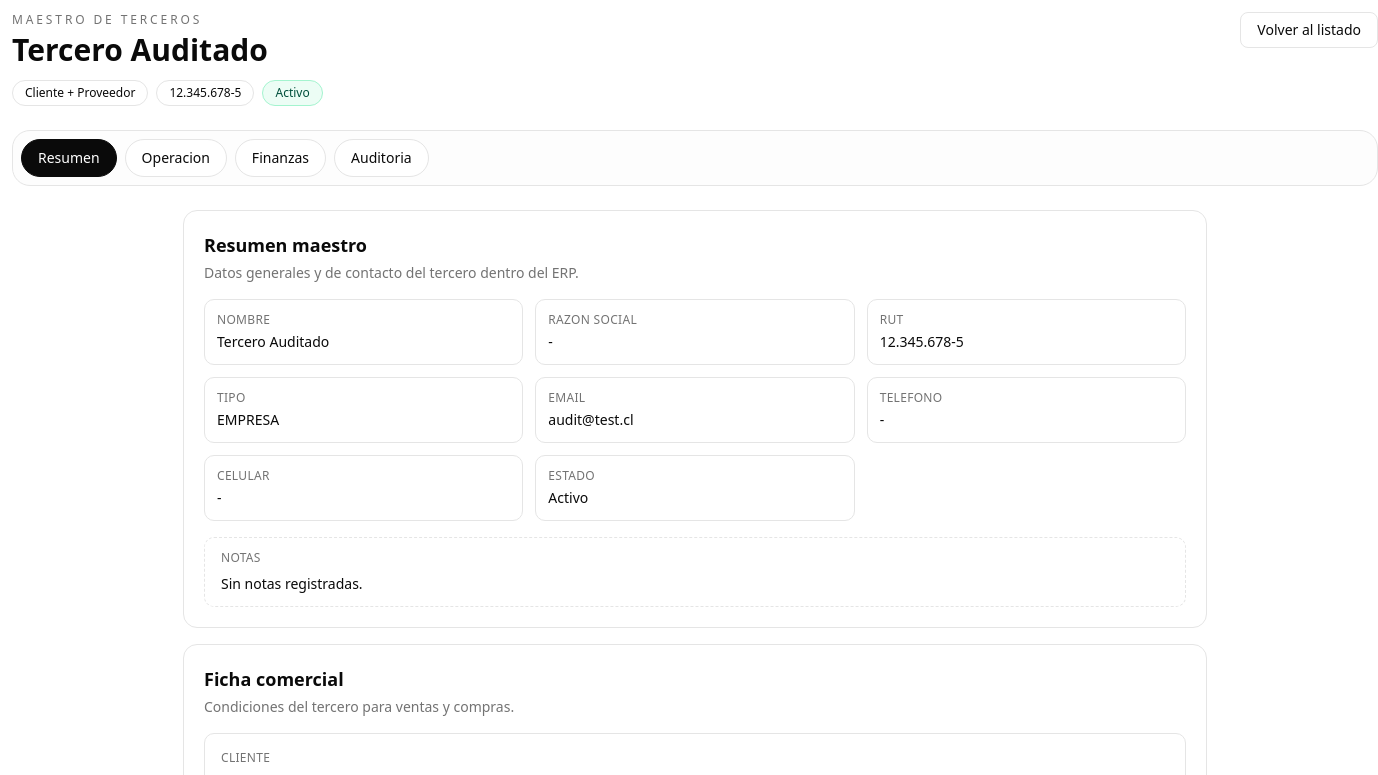
it: contactos/ContactoDetailPage › muestra trazabilidad consolidada cuando el usuario tiene permiso de auditoria
Expected: the heading "Tercero Auditado" is shown, [12,29,268,70]
Step 1. Click the button "Auditoria" → coordinates (381, 158), box [334,139,429,177]
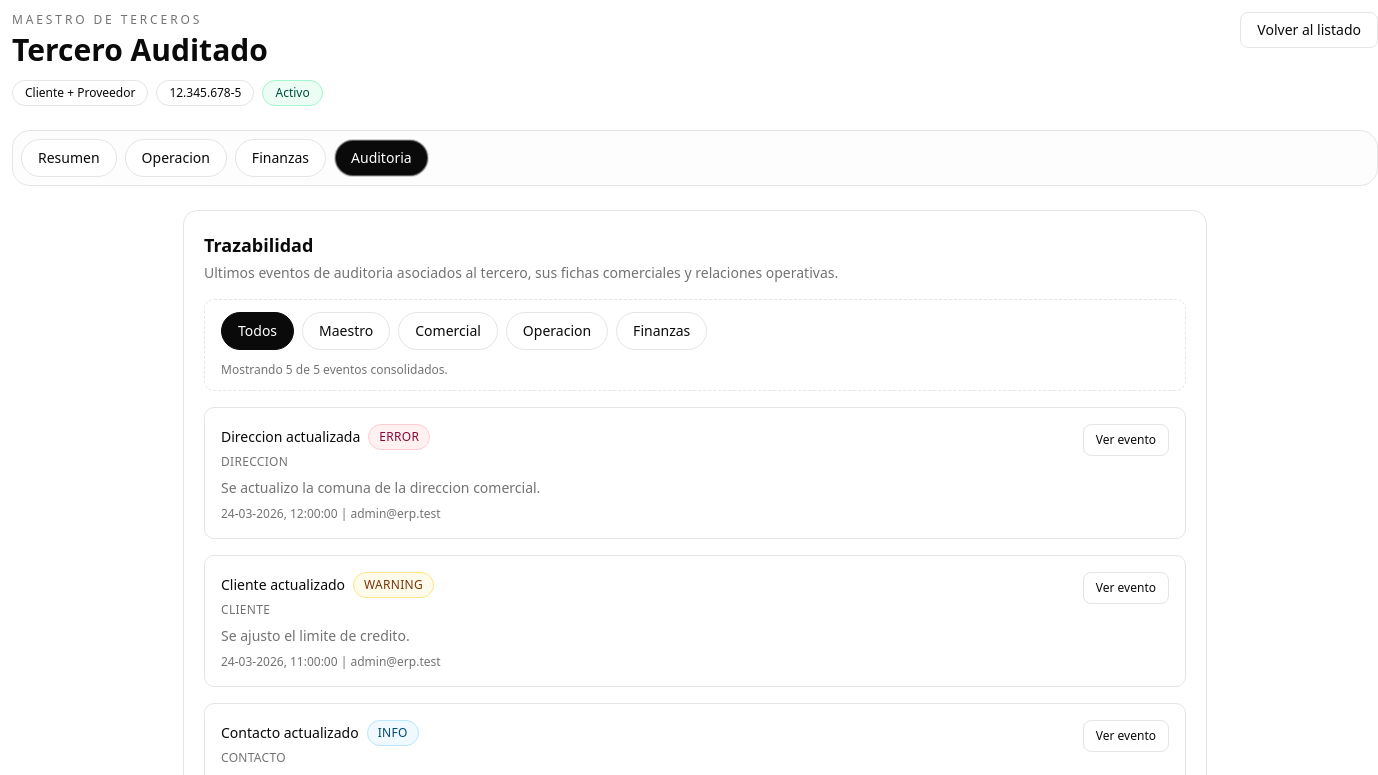
Expected: the heading "Trazabilidad" is shown, [204,233,313,257]
Expected: the text "Se ajusto el limite de credito." is shown, [221,626,441,646]
Expected: the text "Se actualizo la comuna de la direccion comercial." is shown, [221,478,540,498]
Step 2. Click the 2nd button "Finanzas" → coordinates (662, 331), box [616,312,707,350]
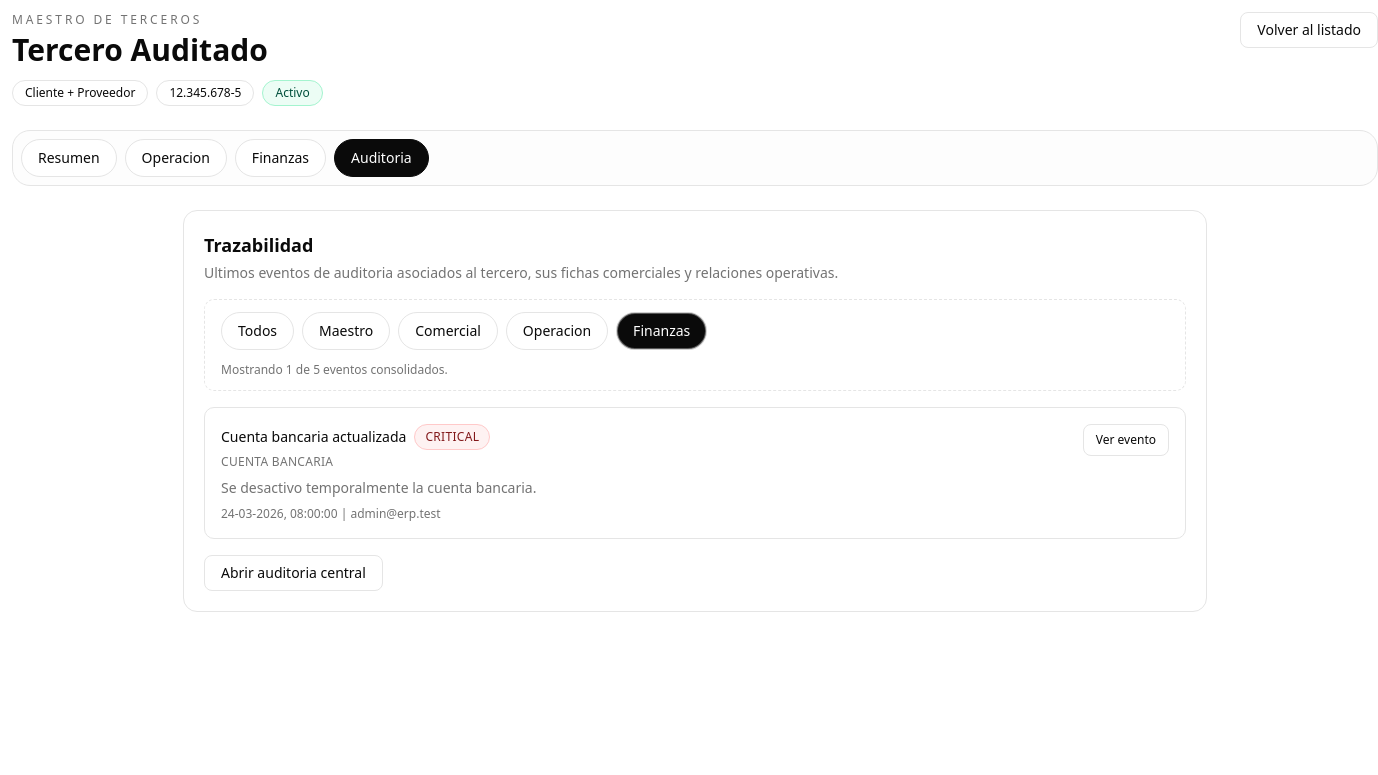
Expected: the text "Se desactivo temporalmente la cuenta bancaria." is shown, [221,478,536,498]
Expected: the text "Mostrando 1 de 5 eventos consolidados." is shown, [221,361,448,378]
Expected: the text "Se ajusto el limite de credito." is gone
